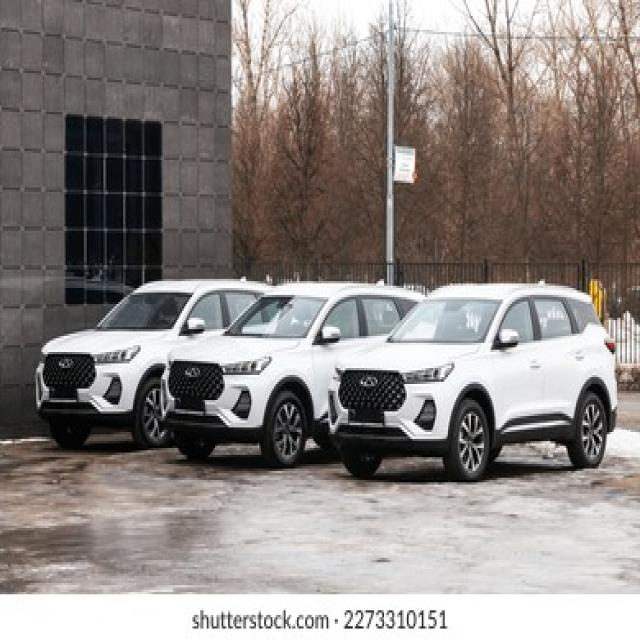cherry: (357, 369, 383, 392), (54, 351, 76, 371), (185, 366, 202, 381)
